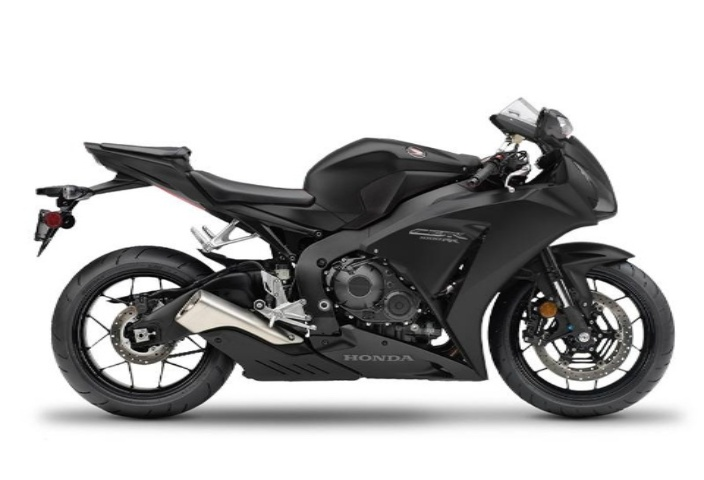motorcycle: (24, 75, 680, 430)
